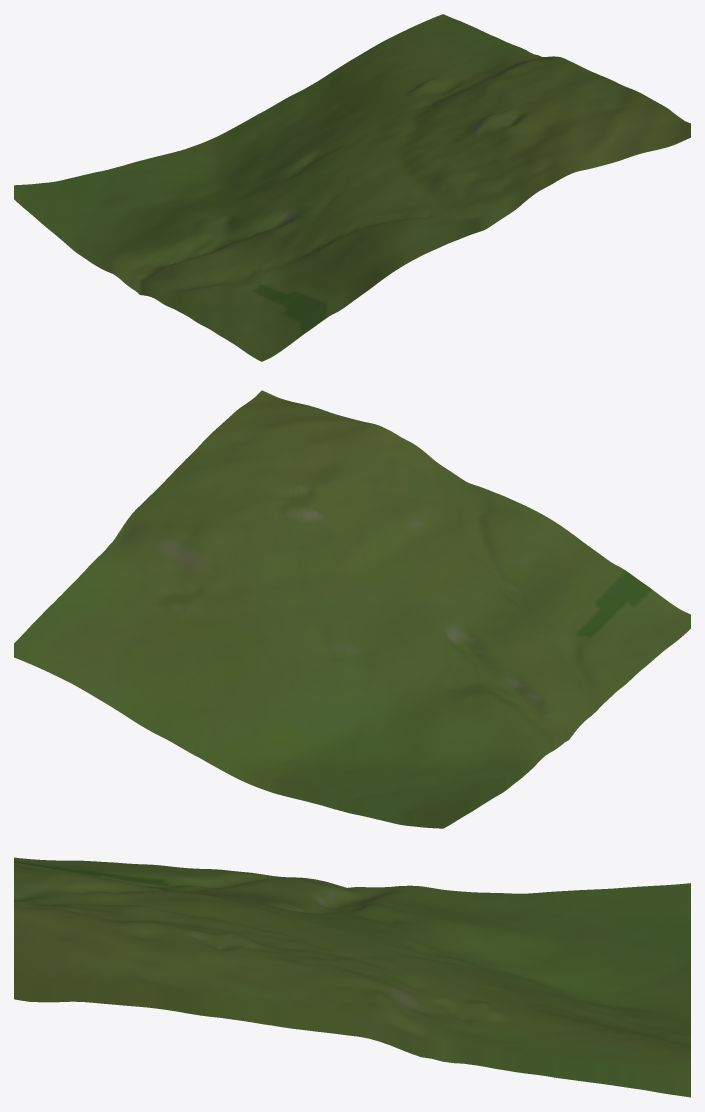
Rendered from terrain_10_-21.glb.
3 renders of one model, top to bottom at view 1: azimuth 30°, elevation 25°; view 2: azimuth 150°, elevation 25°; view 3: azimuth 270°, elevation 25°, orthographic. The views are drawn at different scales.
Visible parts, largest first — view 1: terrain_10_-21; view 2: terrain_10_-21; view 3: terrain_10_-21.
Part boxes in pixels (bbox=[...]): terrain_10_-21: bbox=[14, 14, 690, 361]; terrain_10_-21: bbox=[14, 390, 690, 828]; terrain_10_-21: bbox=[14, 857, 690, 1097].
Size of the model in its own units: 256 by 91.31 by 256.
